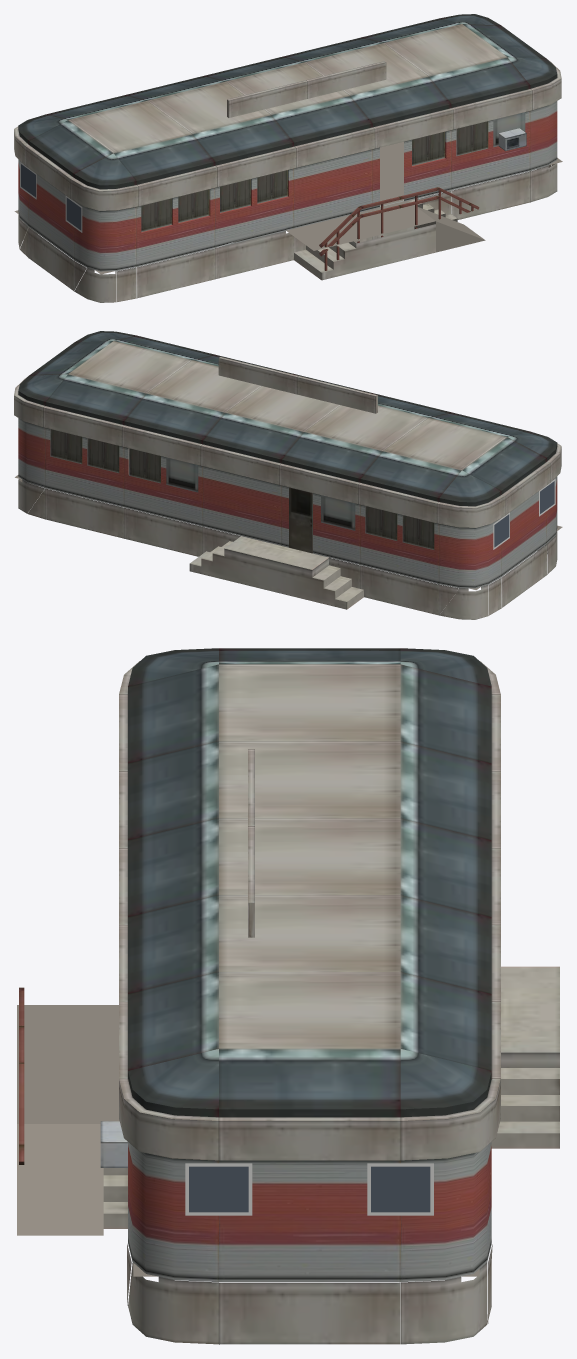
File: rural-diner.windows-v1.lod1.glb
3 views of the same model, one above another, from view 1: azimuth 30°, elevation 25°; view 2: azimuth 150°, elevation 25°; view 3: azimuth 270°, elevation 25° (orthographic). The views are drawn at different scales.
Parts seen in each view (by area): view 1: Rural_Diner_1_Rural_Facade_FLR_2_0, Rural_Diner_1_Rural_Trailer_Stuff_1_0, Walkable floors and stairs, Window glass and frames; view 2: Rural_Diner_1_Rural_Facade_FLR_2_0, Rural_Diner_1_Rural_Trailer_Stuff_1_0, Window glass and frames; view 3: Rural_Diner_1_Rural_Facade_FLR_2_0, Rural_Diner_1_Rural_Trailer_Stuff_1_0, Walkable floors and stairs, Window glass and frames.
Part boxes in pixels (x1=…): Rural_Diner_1_Rural_Facade_FLR_2_0: x1=14, y1=14, x2=561, y2=302; Rural_Diner_1_Rural_Trailer_Stuff_1_0: x1=18, y1=101, x2=557, y2=271; Walkable floors and stairs: x1=14, y1=142, x2=562, y2=274; Window glass and frames: x1=20, y1=162, x2=82, y2=232; Rural_Diner_1_Rural_Facade_FLR_2_0: x1=14, y1=331, x2=561, y2=619; Rural_Diner_1_Rural_Trailer_Stuff_1_0: x1=18, y1=418, x2=557, y2=588; Window glass and frames: x1=493, y1=479, x2=555, y2=549; Rural_Diner_1_Rural_Facade_FLR_2_0: x1=19, y1=648, x2=559, y2=1344; Rural_Diner_1_Rural_Trailer_Stuff_1_0: x1=128, y1=1142, x2=491, y2=1281; Walkable floors and stairs: x1=17, y1=1005, x2=479, y2=1276; Window glass and frames: x1=185, y1=1163, x2=433, y2=1215.
Size of the model in its own units: 18.3 by 5.31 by 8.96.
4 materials, 2 textured.
